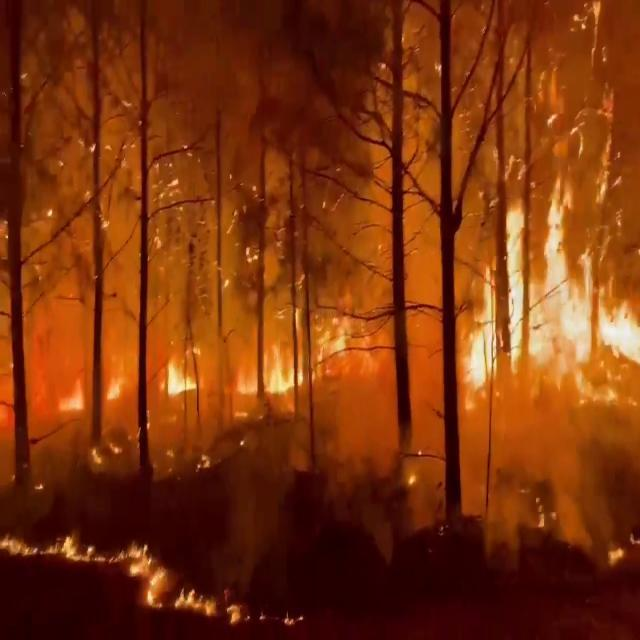Fire: (466, 133, 640, 409), (260, 262, 390, 399), (0, 522, 106, 576), (178, 586, 252, 636), (122, 540, 164, 616), (160, 342, 202, 407)
Smoke: (11, 0, 502, 475)
